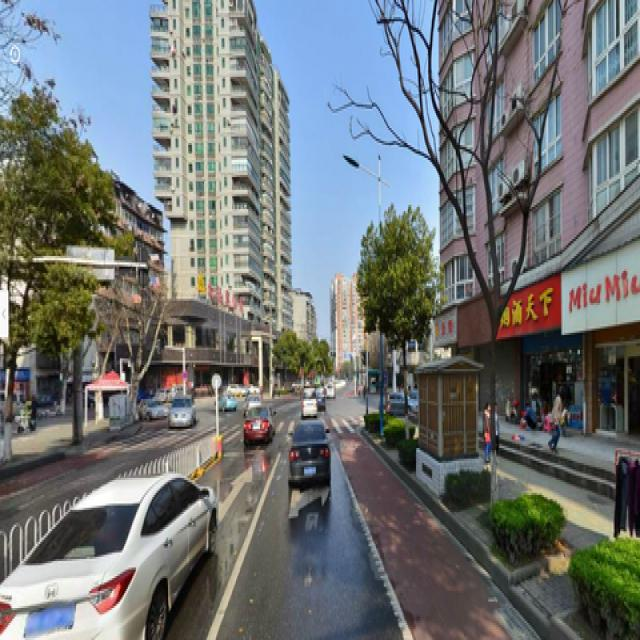cinn: (372, 220, 425, 435)
